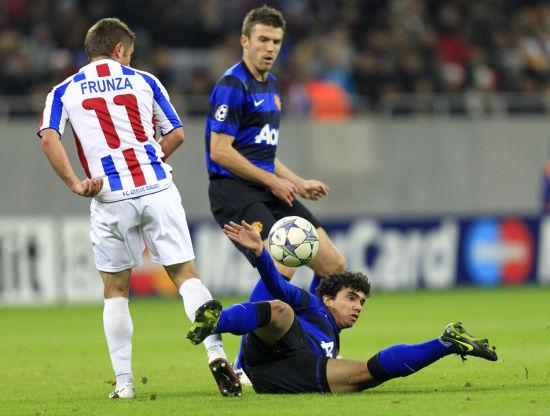down: (172, 208, 504, 398)
up: (28, 9, 238, 402), (199, 1, 351, 295)
